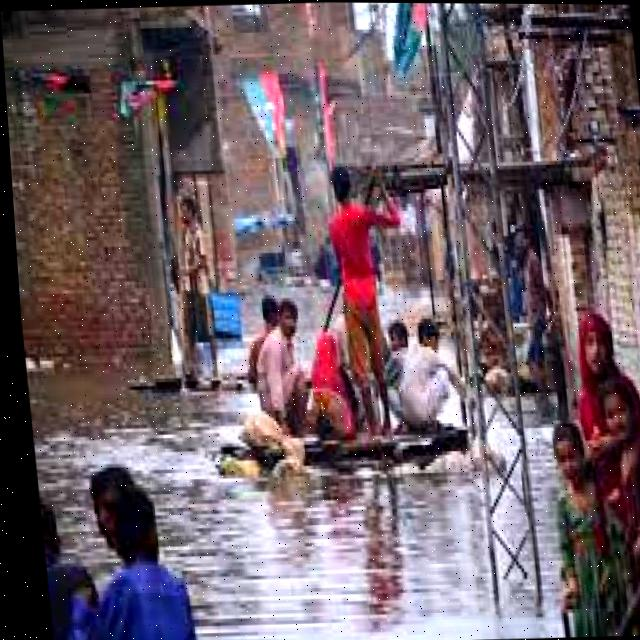civilian: (316, 148, 421, 438), (48, 489, 210, 640), (535, 421, 637, 637), (150, 193, 230, 389), (583, 386, 640, 631), (562, 305, 640, 464), (53, 465, 157, 579), (504, 221, 571, 389), (253, 299, 320, 438), (400, 314, 469, 429), (302, 332, 365, 436), (378, 324, 430, 427), (246, 293, 291, 383)
